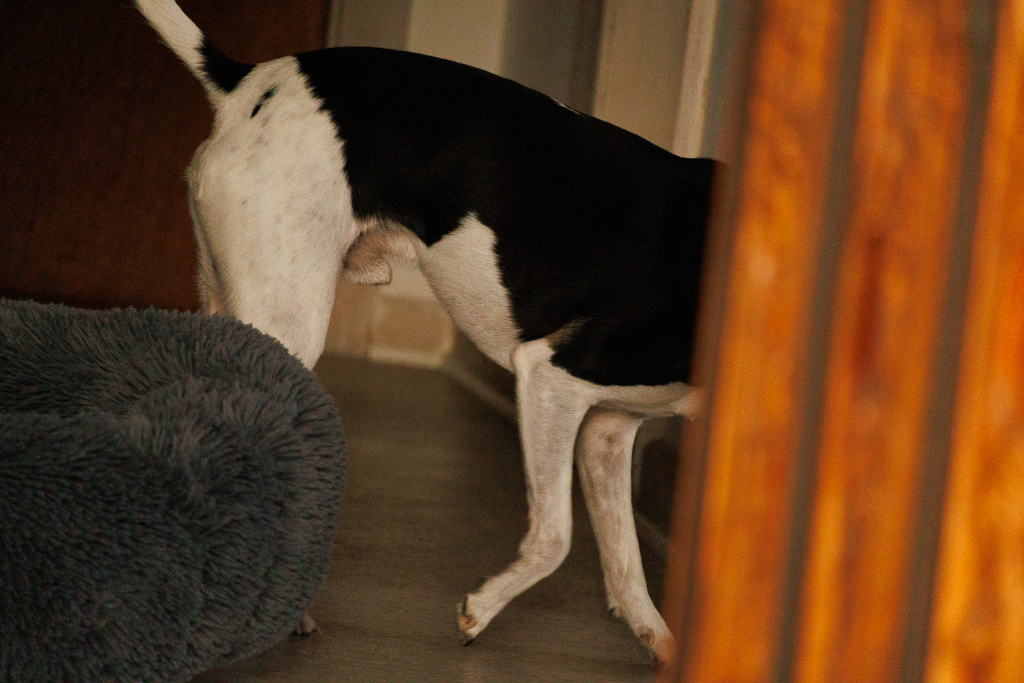Dog: (118, 0, 762, 677)
